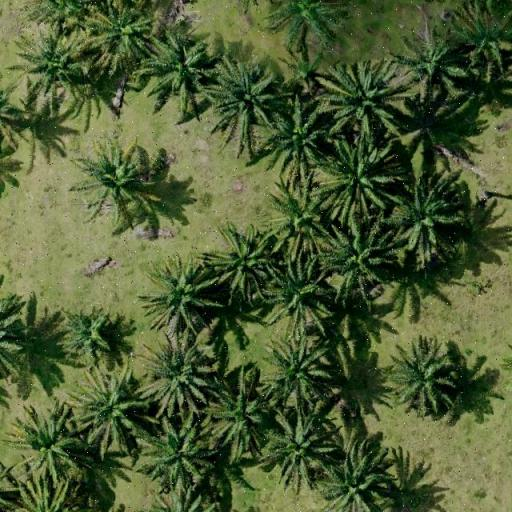Ganoderma: (87, 148, 146, 202), (460, 18, 510, 64), (406, 43, 452, 88)
